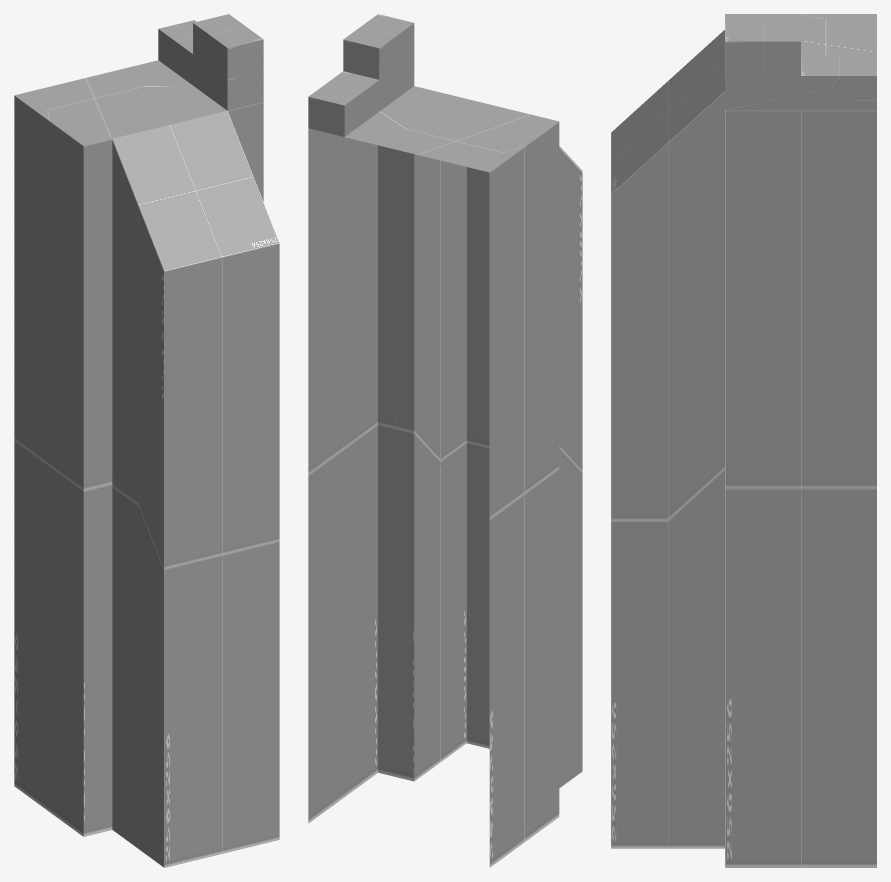
The model's file is segment_right.glb.
3 views of the same model, side by side, from view 1: azimuth 30°, elevation 25°; view 2: azimuth 150°, elevation 25°; view 3: azimuth 270°, elevation 25° (orthographic). The views are drawn at different scales.
Visible parts, largest first — view 1: Cube; view 2: Cube; view 3: Cube.
Part boxes in pixels (x1,y1,x2,y2): Cube: [14, 14, 279, 867]; Cube: [308, 14, 582, 867]; Cube: [611, 14, 876, 867].
Size of what is drawn, in the model's own units: 6 by 24 by 7.
1 material, 1 textured.
